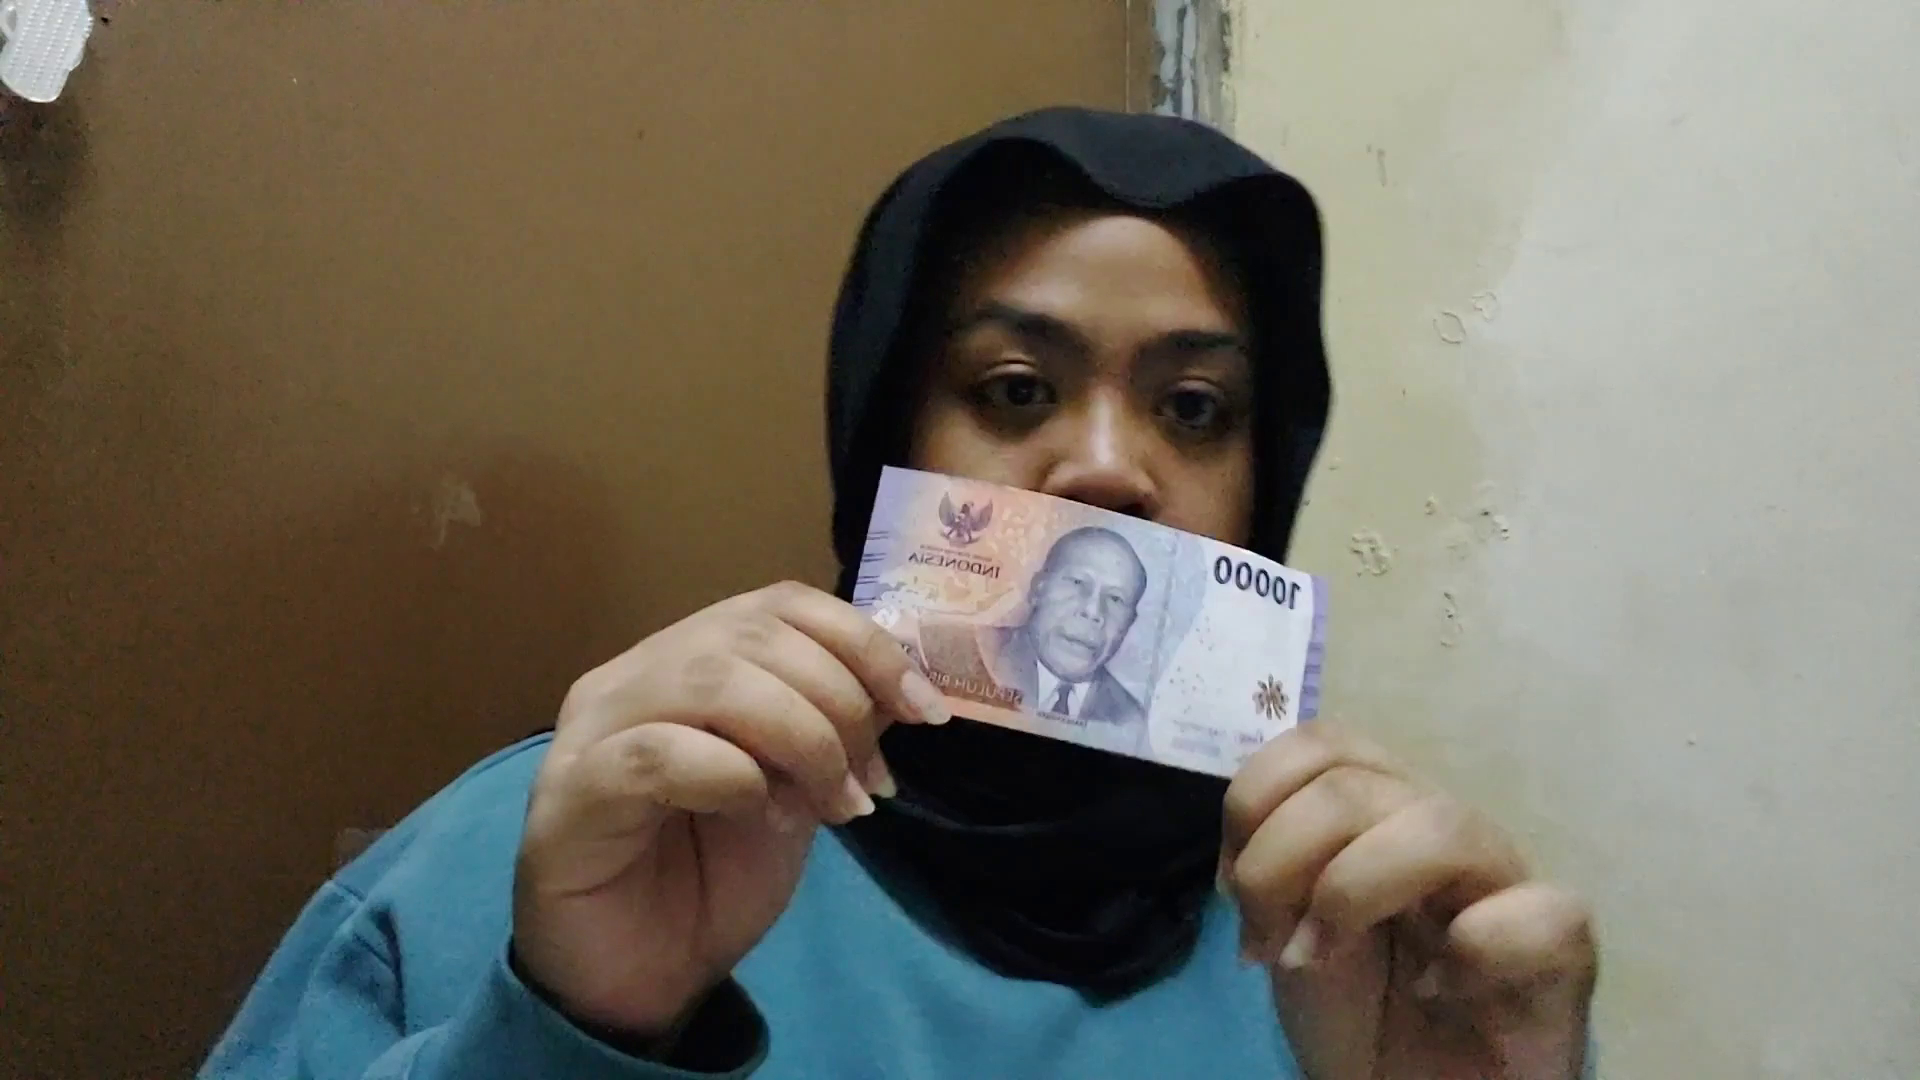10k: (889, 446, 1369, 692)
